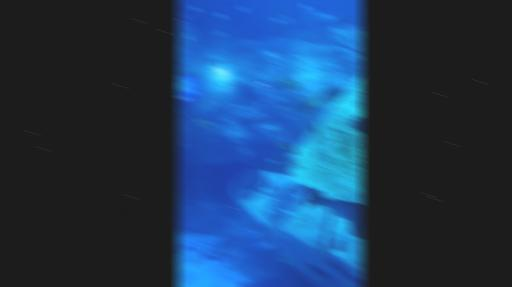Fish: (303, 187, 362, 237), (300, 5, 339, 25), (299, 96, 320, 114), (239, 190, 266, 201), (317, 89, 346, 99), (280, 78, 301, 90), (351, 115, 362, 132), (280, 144, 297, 154), (280, 12, 291, 24), (194, 121, 211, 127), (333, 240, 342, 250), (278, 105, 289, 113), (312, 124, 319, 136), (238, 6, 247, 12), (184, 32, 191, 39), (216, 13, 225, 18), (191, 7, 200, 12), (268, 158, 277, 163), (181, 15, 190, 19), (217, 33, 226, 37), (275, 19, 282, 23), (179, 108, 181, 118)
